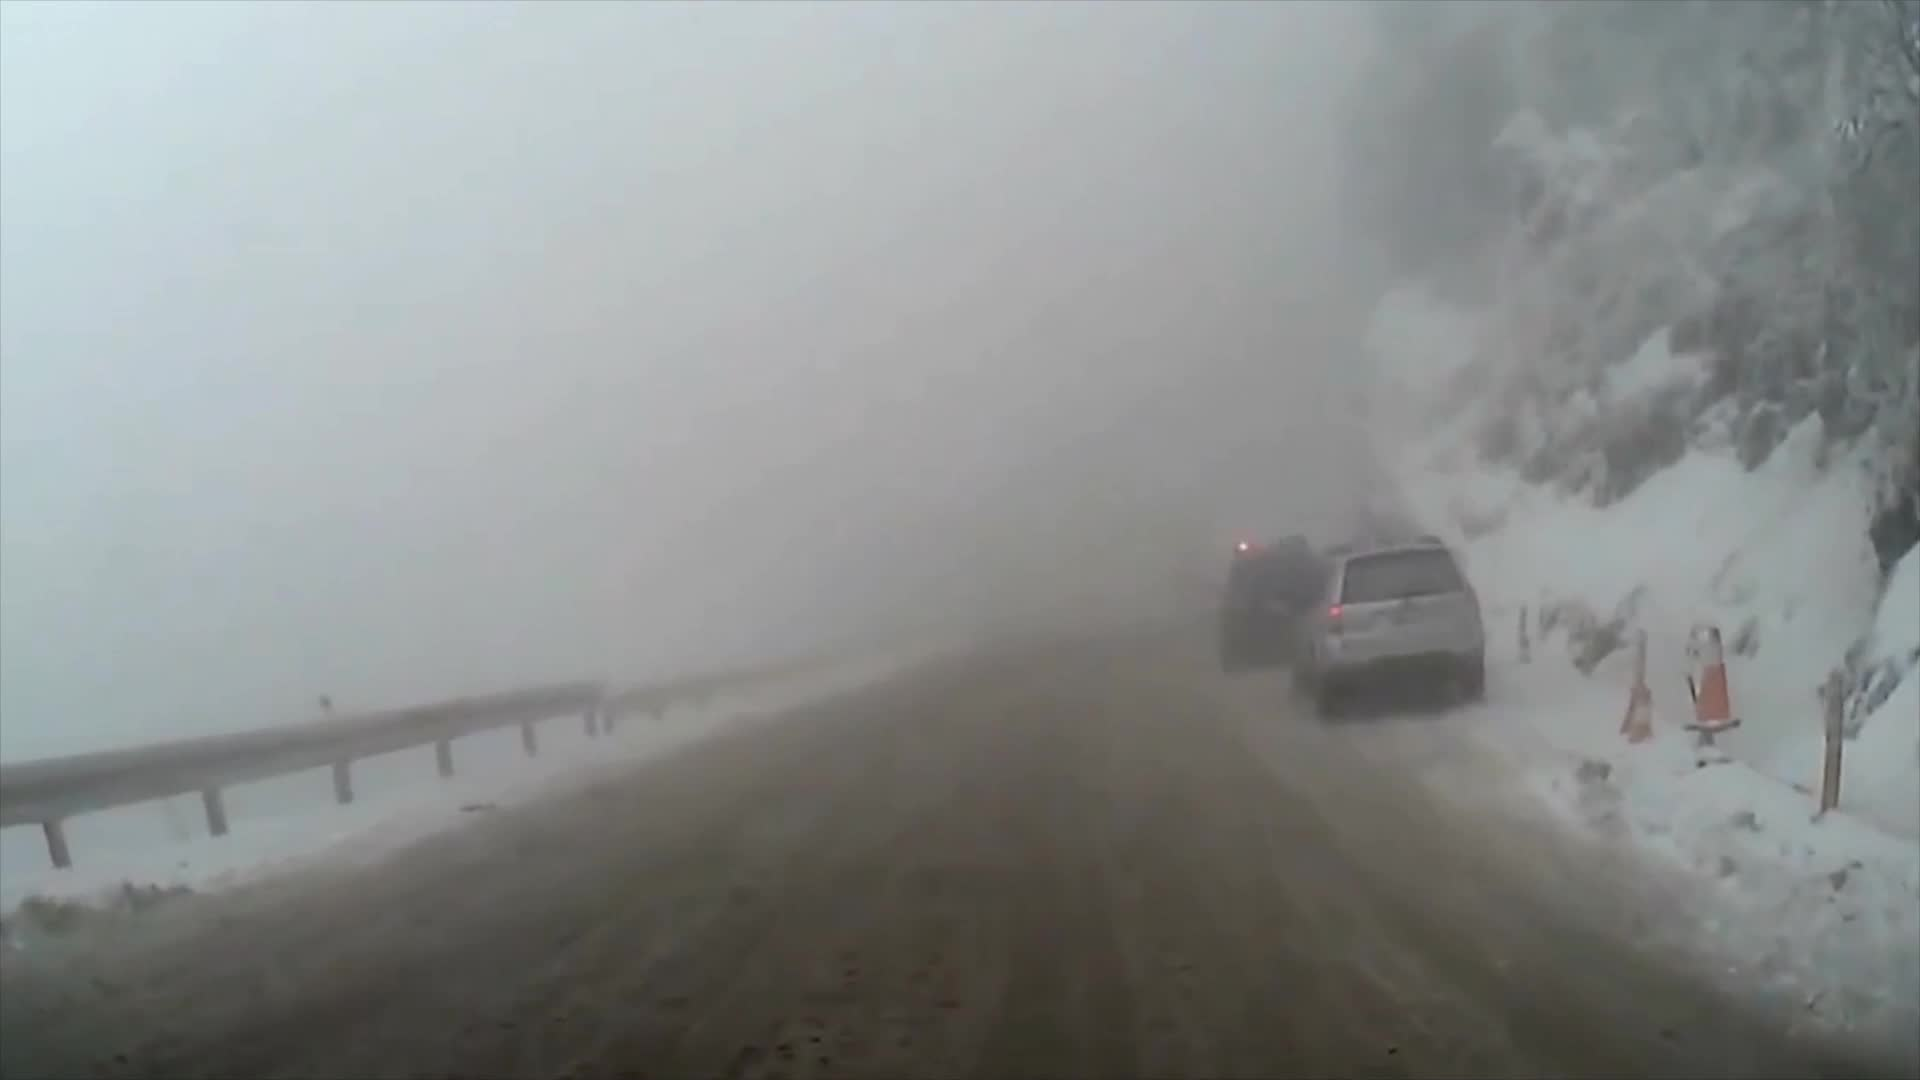vehicle: (1287, 531, 1486, 723), (1205, 526, 1337, 671)
